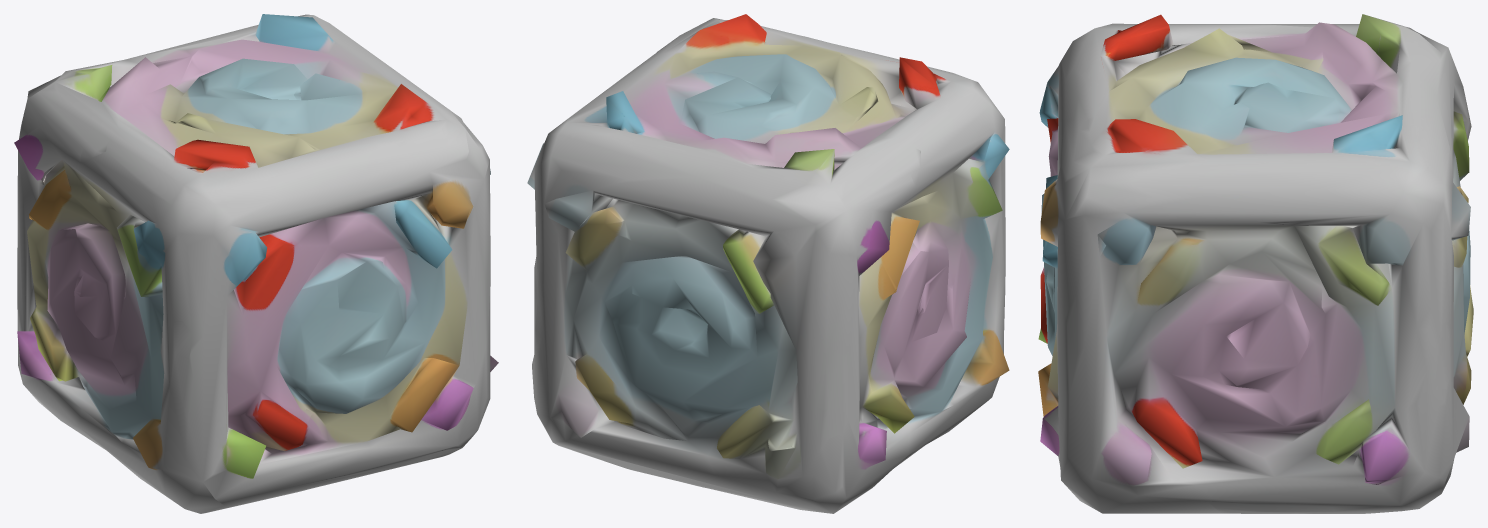
Rendered from match_white.fbx.
3 views of the same model, side by side, from view 1: azimuth 30°, elevation 25°; view 2: azimuth 150°, elevation 25°; view 3: azimuth 270°, elevation 25° (orthographic). The views are drawn at different scales.
Parts seen in each view (by area): view 1: tripo_node_3998bf2f; view 2: tripo_node_3998bf2f; view 3: tripo_node_3998bf2f.
Part boxes in pixels (x1=…): tripo_node_3998bf2f: x1=14, y1=14, x2=498, y2=513; tripo_node_3998bf2f: x1=527, y1=14, x2=1009, y2=513; tripo_node_3998bf2f: x1=1038, y1=14, x2=1473, y2=513.
Bounding box in the file's own units: 100 × 99.71 × 95.23.
Materials: 1 (1 with a texture image).
